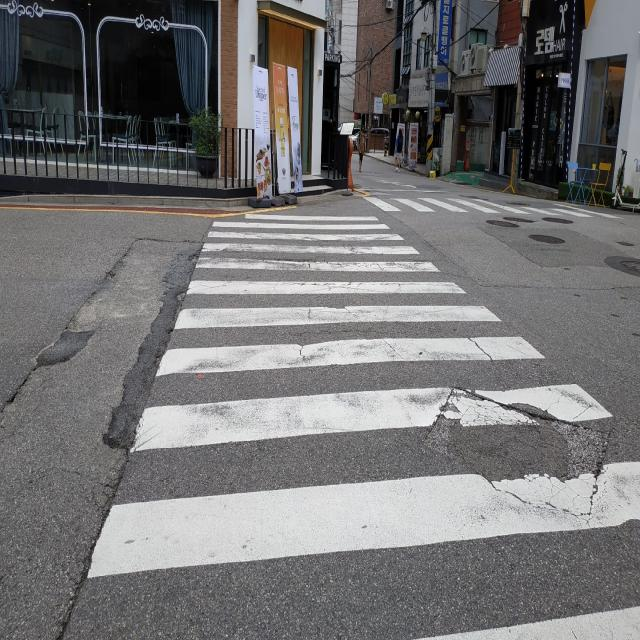횡단보도: (87, 211, 638, 637), (353, 195, 621, 221)
